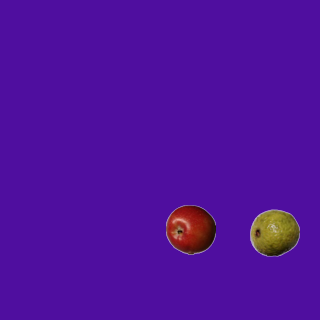Apple Braeburn: (165, 204, 215, 254)
Guava: (249, 207, 299, 257)
